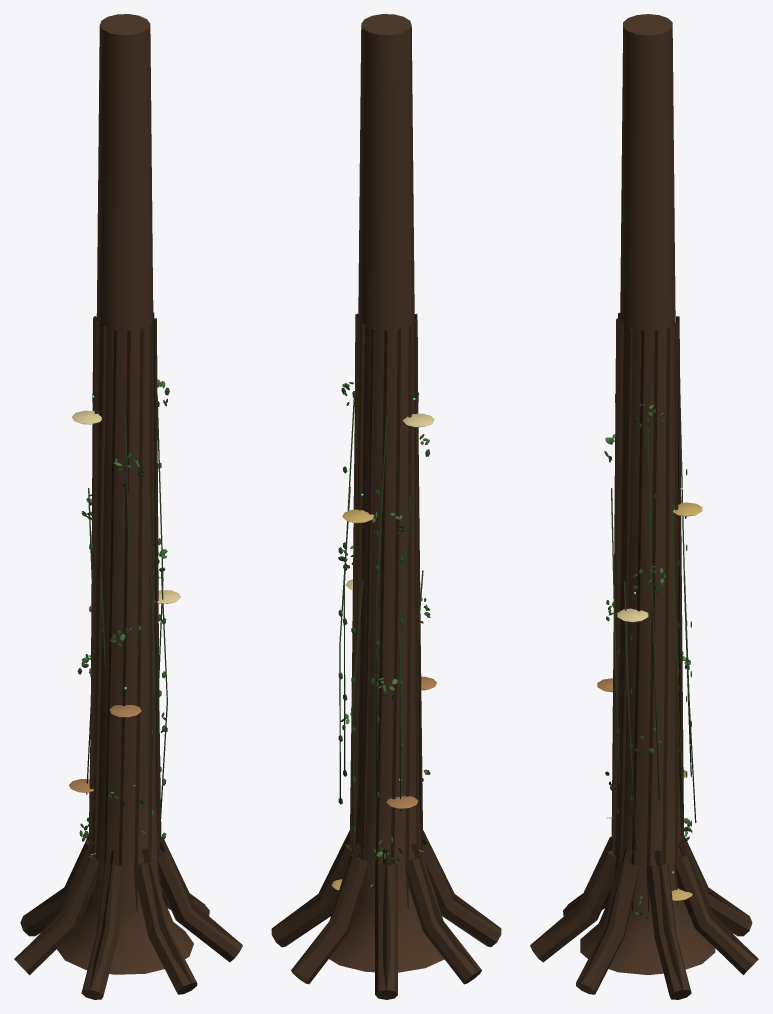
The model's file is jungle_tree.glb.
The picture shows the model from 3 angles, left to right: view 1: azimuth 30°, elevation 25°; view 2: azimuth 150°, elevation 25°; view 3: azimuth 270°, elevation 25°; orthographic projection.
Parts seen in each view (by area): view 1: jungle_tree; view 2: jungle_tree; view 3: jungle_tree.
Boxes of the visible parts, left/top/right/bottom form: jungle_tree: left=14, top=14, right=242, bottom=999; jungle_tree: left=271, top=14, right=501, bottom=999; jungle_tree: left=530, top=14, right=758, bottom=999.
Size of the model in its own units: 9.96 by 44.59 by 9.91.
